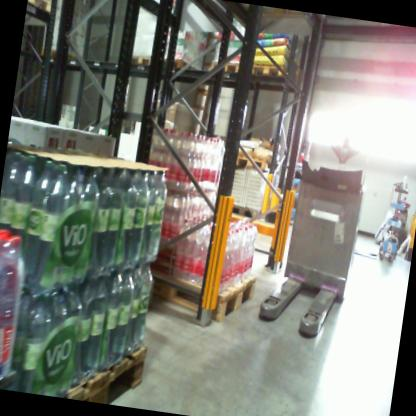pallet: (124, 241, 263, 340), (54, 316, 170, 409), (237, 2, 314, 35), (218, 197, 282, 235), (240, 56, 303, 91), (152, 42, 201, 80), (221, 147, 271, 181), (38, 38, 86, 67), (204, 55, 244, 83), (121, 52, 155, 74), (27, 0, 54, 17)
pallet_truck: (253, 123, 386, 349)
